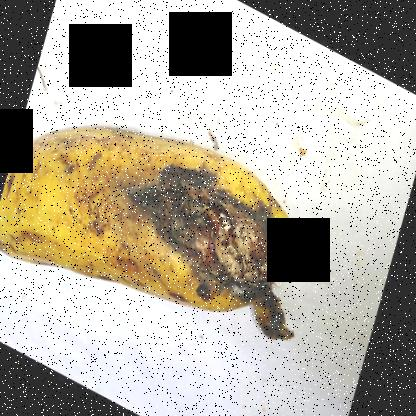rotten: (120, 146, 312, 338)
